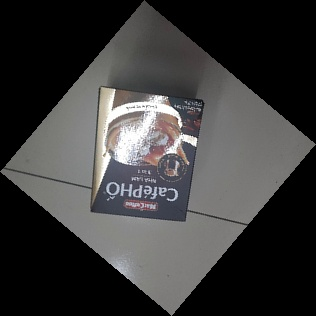CF pho: (89, 83, 207, 225)
